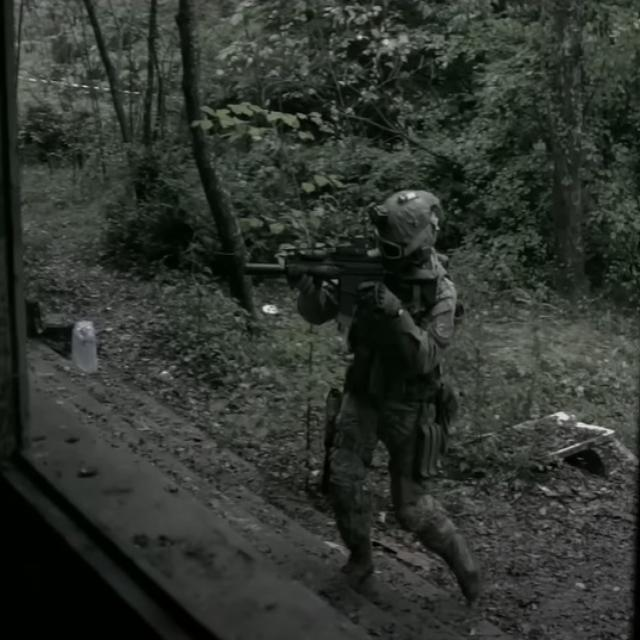m16: (218, 211, 454, 320)
